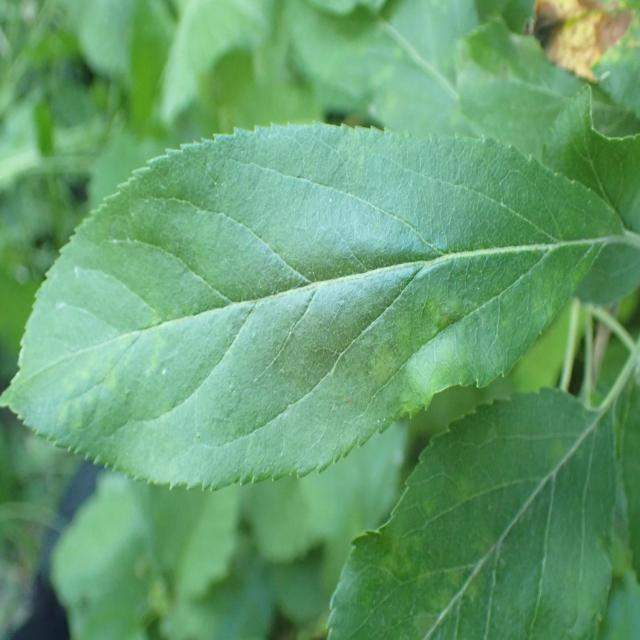scab: (41, 228, 561, 467), (352, 474, 543, 640)
